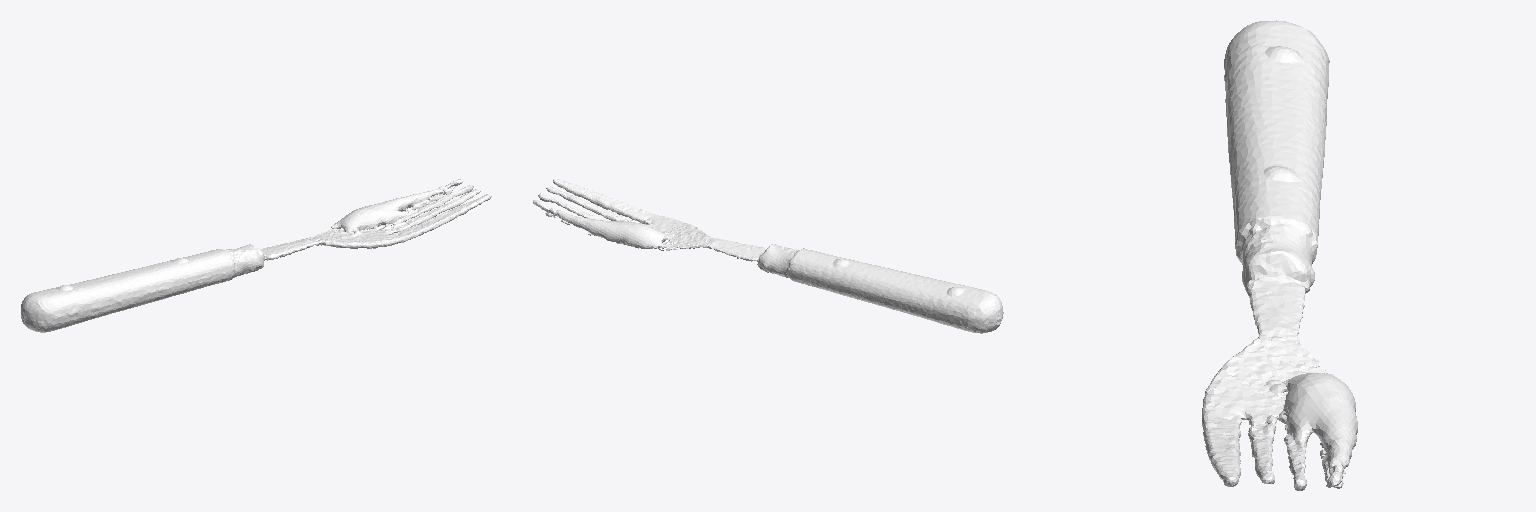
robot.urdf — model.urdf:
<?xml version="0.0" ?>
<robot name="model.urdf">
  <link name="baseLink">
    <contact>
      <friction_anchor/>
      <lateral_friction value="0.3"/>
      <rolling_friction value="0.0"/>
      <contact_cfm value="0.0"/>
      <contact_erp value="1.0"/>
    </contact>
    <inertial>
       <origin rpy="0 0 0" xyz="0 0 0"/>
       <mass value="0.1"/>
       <inertia ixx="8e-05" ixy="0" ixz="0" iyy="0.0002" iyz="0" izz="0.0002"/>
    </inertial>
    <visual>
      <geometry>
        <mesh filename="textured.obj" scale="1 1 1"/>
      </geometry>
      <material name="white">
        <color rgba="1. 1. 1. 1."/>
      </material>
    </visual>
    <collision>
      <geometry>
    	 	<mesh filename="collision.obj" scale="1 1 1"/>
      </geometry>
    </collision>
  </link>
</robot>

--- Render facts (derived) ---
Views: 3 orthographic renders of the robot side by side, from view 1: azimuth 30°, elevation 25°; view 2: azimuth 150°, elevation 25°; view 3: azimuth 270°, elevation 25°.
Robot: model.urdf — 1 links, 0 joints (none); root link baseLink; default pose: all joints at 0.
Links seen in each view (by area): view 1: baseLink; view 2: baseLink; view 3: baseLink.
Link boxes in pixels (box(x1,y1,x2,y2)): baseLink: box(21, 179, 491, 332); baseLink: box(533, 179, 1003, 333); baseLink: box(1202, 20, 1357, 490).
Bounding box of the posed robot: 0.1977 × 0.0275 × 0.0155 m (x, y, z).
Meshes: 1 distinct files referenced, 1 mesh visuals loaded (1 OBJ).